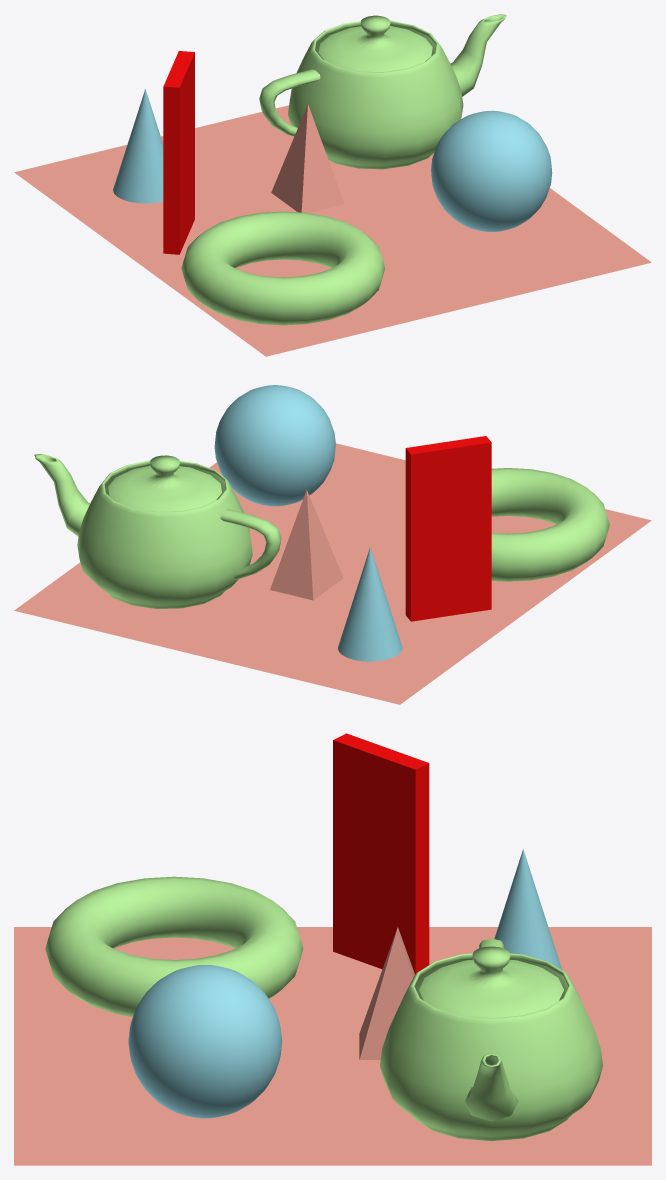
3 views of the same model, one above another, from view 1: azimuth 30°, elevation 25°; view 2: azimuth 150°, elevation 25°; view 3: azimuth 270°, elevation 25° (orthographic). The views are drawn at different scales.
Parts seen in each view (by area): view 1: Plane01, Teapot01, Torus01, Sphere01, Box01, Pyramid01, Cone01; view 2: Plane01, Teapot01, Box01, Sphere01, Torus01, Pyramid01, Cone01; view 3: Plane01, Teapot01, Torus01, Box01, Sphere01, Cone01, Pyramid01.
Part boxes in pixels (<box>): Plane01: <box>14,105,651,356</box>; Teapot01: <box>259,14,506,169</box>; Torus01: <box>181,211,385,325</box>; Sphere01: <box>431,110,552,231</box>; Box01: <box>163,51,194,254</box>; Pyramid01: <box>271,104,344,212</box>; Cone01: <box>113,89,163,203</box>; Plane01: <box>14,443,651,704</box>; Teapot01: <box>34,454,281,608</box>; Box01: <box>405,436,491,621</box>; Sphere01: <box>214,385,335,506</box>; Torus01: <box>491,468,609,581</box>; Pyramid01: <box>270,489,343,600</box>; Cone01: <box>338,547,402,661</box>; Plane01: <box>14,927,651,1165</box>; Teapot01: <box>380,938,602,1141</box>; Torus01: <box>45,876,303,1016</box>; Box01: <box>333,733,429,974</box>; Sphere01: <box>128,965,282,1118</box>; Cone01: <box>494,849,561,969</box>; Pyramid01: <box>359,927,414,1059</box>.
Bounding box in the file's own units: 81.89 × 81.81 × 29.93.
